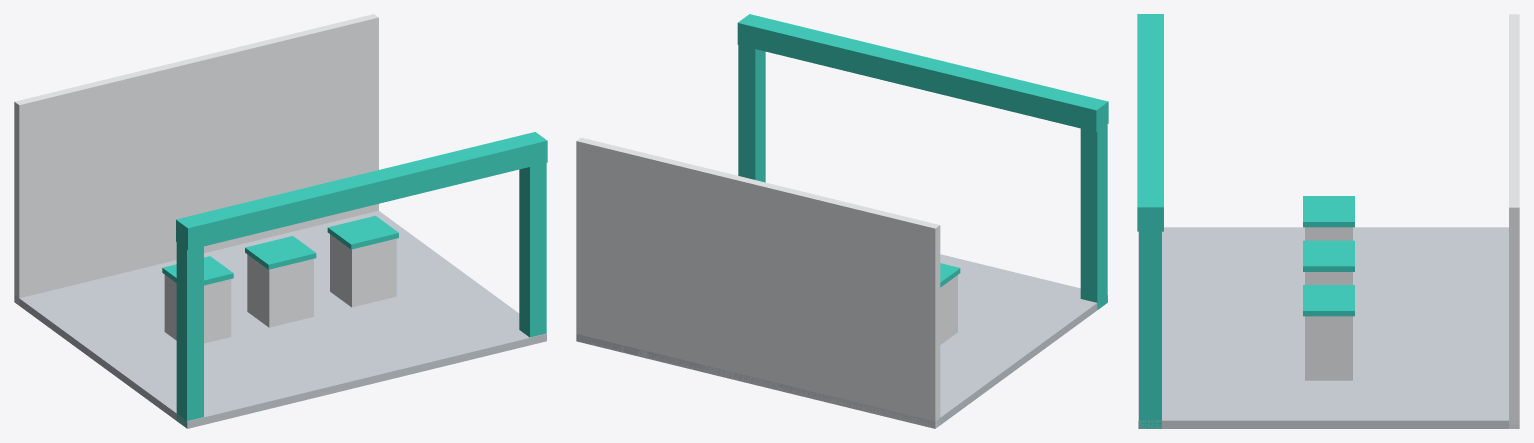
3 views of the same model, side by side, from view 1: azimuth 30°, elevation 25°; view 2: azimuth 150°, elevation 25°; view 3: azimuth 270°, elevation 25° (orthographic). The views are drawn at different scales.
Visible parts, largest first — view 1: Exhibition Booth Concept; view 2: Exhibition Booth Concept; view 3: Exhibition Booth Concept.
Boxes of the visible parts, x1,y1,x2,y2 form: Exhibition Booth Concept: [14, 14, 547, 428]; Exhibition Booth Concept: [576, 14, 1108, 428]; Exhibition Booth Concept: [1137, 14, 1519, 428].
Bounding box in the file's own units: 6 × 3.2 × 5.02.
